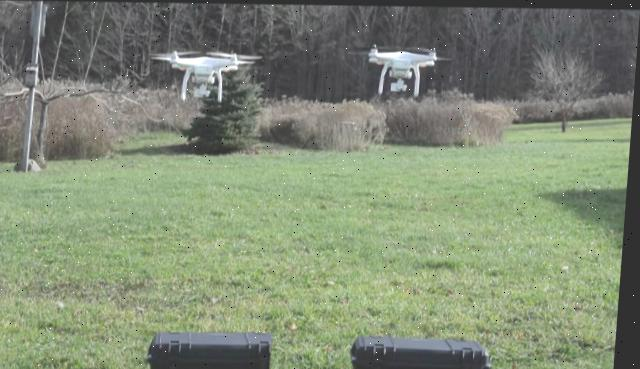drone: (137, 23, 272, 108), (359, 30, 452, 106), (0, 367, 619, 369)
